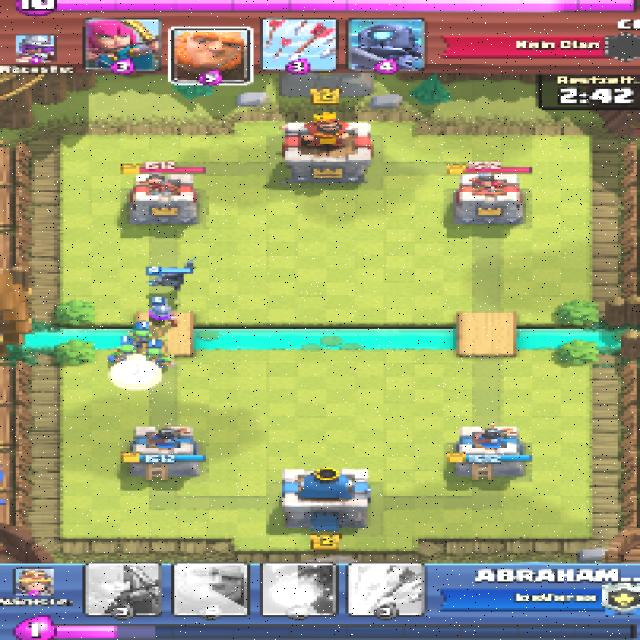Player-MiniPEKKA: (148, 261, 193, 289)
Player-Musketeer: (140, 302, 178, 325)
Player-SpearGoblin: (110, 346, 143, 368), (139, 349, 175, 368), (122, 328, 158, 344)
